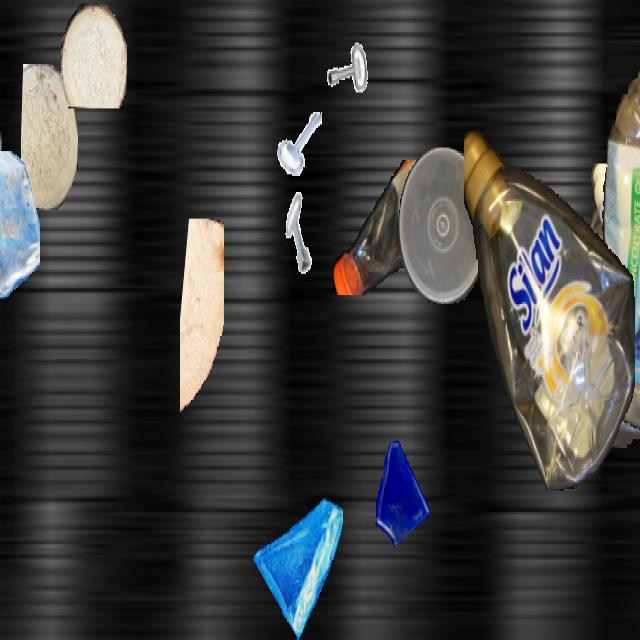glass: (252, 478, 342, 638), (370, 436, 432, 546), (0, 151, 39, 297)
metal: (315, 4, 371, 103), (278, 192, 324, 274), (277, 105, 321, 183)
plastic: (464, 117, 634, 491), (584, 2, 640, 446), (330, 160, 476, 295), (577, 164, 640, 448), (399, 148, 487, 304), (0, 52, 3, 205)
wood: (180, 219, 224, 425), (21, 64, 77, 210), (61, 3, 127, 106)
